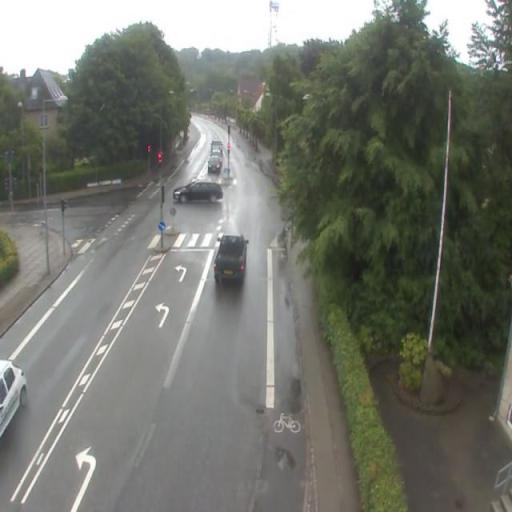小汽车: (213, 229, 249, 285), (173, 175, 222, 205)
